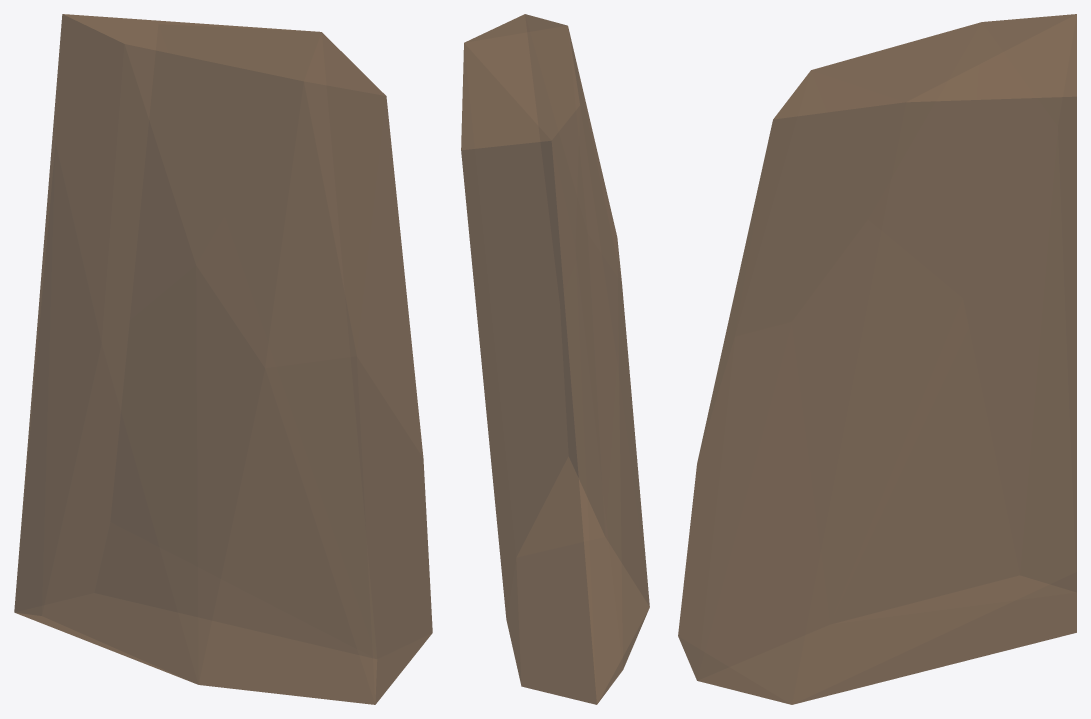
3 views of the same model, side by side, from view 1: azimuth 30°, elevation 25°; view 2: azimuth 150°, elevation 25°; view 3: azimuth 270°, elevation 25° (orthographic). The views are drawn at different scales.
Parts seen in each view (by area): view 1: Shape_IndexedFaceSet.021_Shape_IndexedFaceSet.4840; view 2: Shape_IndexedFaceSet.021_Shape_IndexedFaceSet.4840; view 3: Shape_IndexedFaceSet.021_Shape_IndexedFaceSet.4840.
Part boxes in pixels (x1,y1,x2,y2): Shape_IndexedFaceSet.021_Shape_IndexedFaceSet.4840: [14, 14, 432, 704]; Shape_IndexedFaceSet.021_Shape_IndexedFaceSet.4840: [461, 14, 649, 704]; Shape_IndexedFaceSet.021_Shape_IndexedFaceSet.4840: [678, 14, 1076, 704].
Size of the model in its own units: 0.1278 by 0.3194 by 0.1917.
